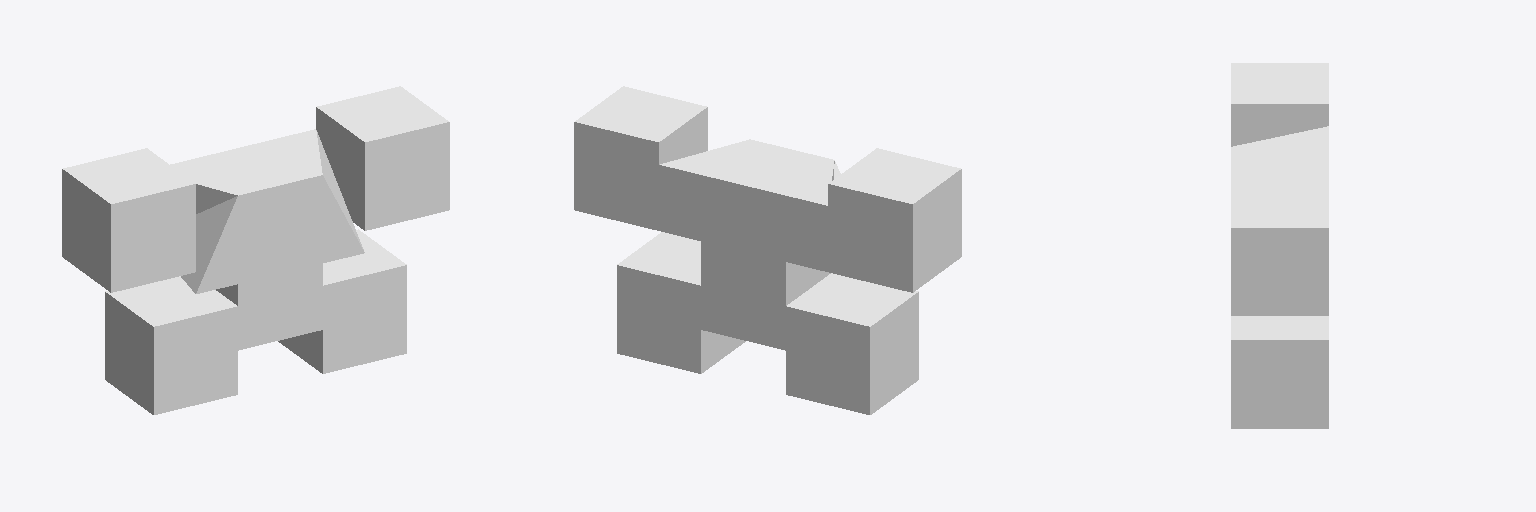
The model's file is votom1.obj.
The picture shows the model from 3 angles: view 1: azimuth 30°, elevation 25°; view 2: azimuth 150°, elevation 25°; view 3: azimuth 270°, elevation 25°; orthographic projection.
Parts seen in each view (by area): view 1: votom1; view 2: votom1; view 3: votom1.
Part boxes in pixels (left/top/right/bottom): votom1: left=62, top=86, right=449, bottom=414; votom1: left=574, top=86, right=961, bottom=414; votom1: left=1231, top=63, right=1328, bottom=428.
Size of the model in its own units: 4 by 2.5 by 1.